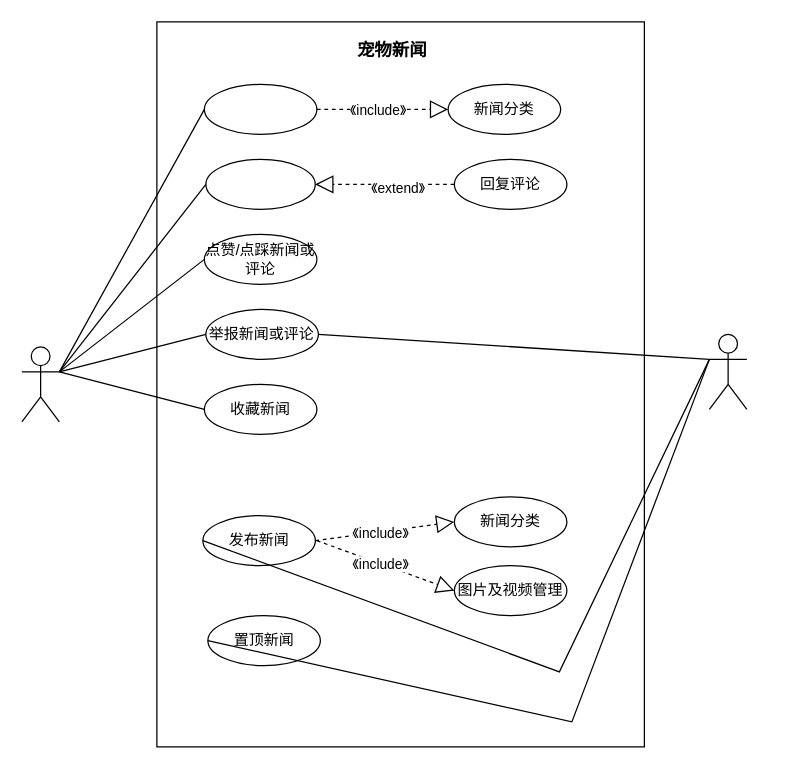
This 788x779 diagram has some shape labels left out. Here are the shapes that lost their labels. From the top down, the box of each, then its label:
(203, 83, 317, 134): 浏览新闻
(205, 158, 315, 209): 评论新闻
(21, 346, 59, 422): 用户
(708, 333, 747, 409): 系统管理员
